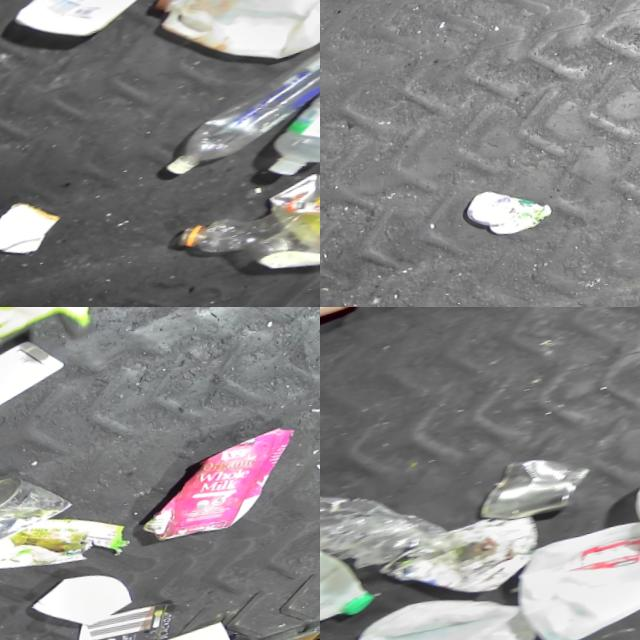can: (471, 445, 611, 535), (0, 466, 80, 554)
milk_jug: (508, 502, 640, 640), (142, 0, 320, 93), (340, 575, 550, 640), (320, 503, 389, 640), (0, 334, 78, 445)
non_white_jug: (3, 0, 218, 54)
plastic_bottle: (157, 33, 320, 184), (320, 460, 460, 589)
